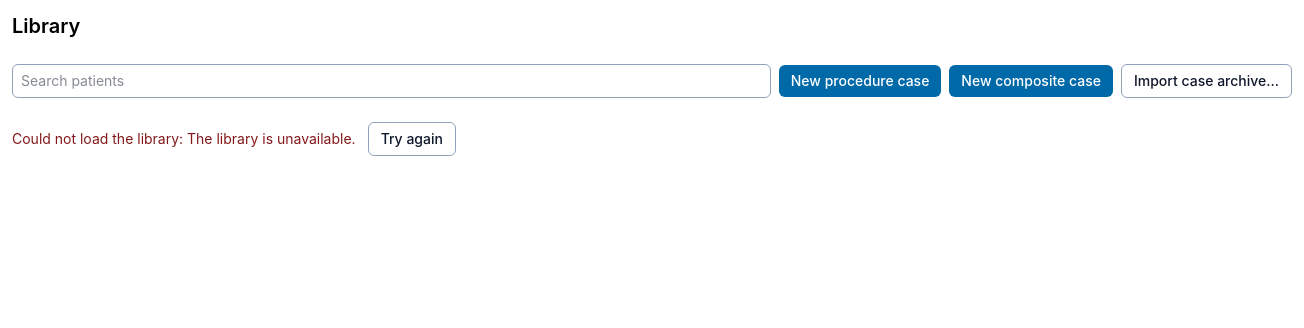
Scenario: LibraryScreen › shows why the library could not load, with a way to try again
Expected: the message shows "The library is unavailable.", [12, 130, 356, 147]
Click the button "Try again": (412, 139) [368, 122, 456, 156]
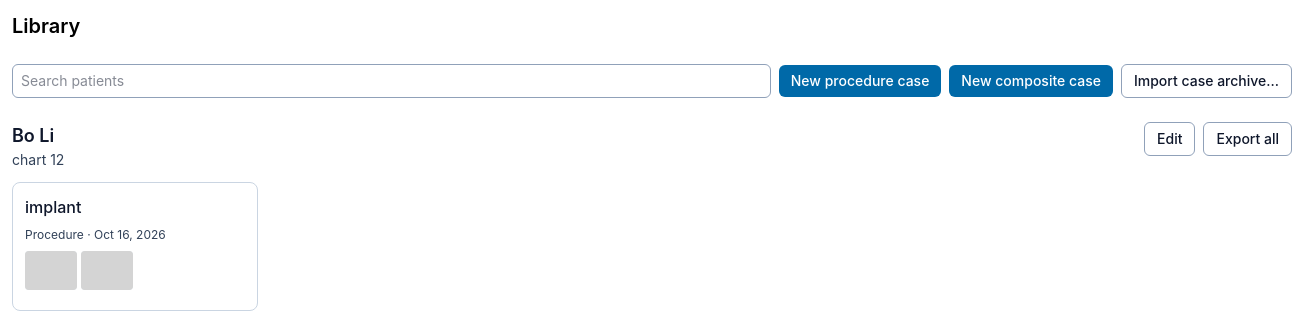
Expected: the heading "Bo Li" is shown, [12, 125, 54, 146]
